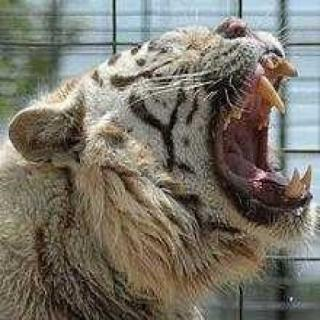Tiger: (0, 9, 316, 305)
